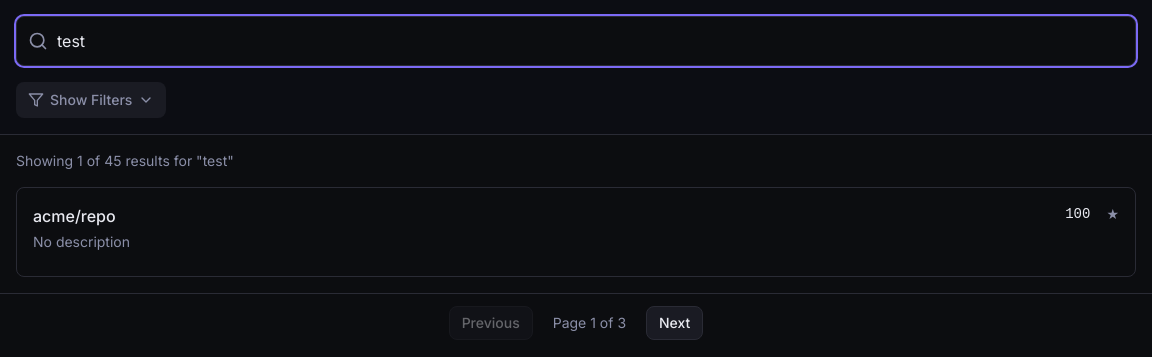
Scenario: SearchPanel pagination › disables Next on the last page
Expected: the text "Page 1 of 3" is shown, [553,314,626,331]
Step 1. Click the button with aria-label "next page" → point(675, 323), box [646,306,703,340]
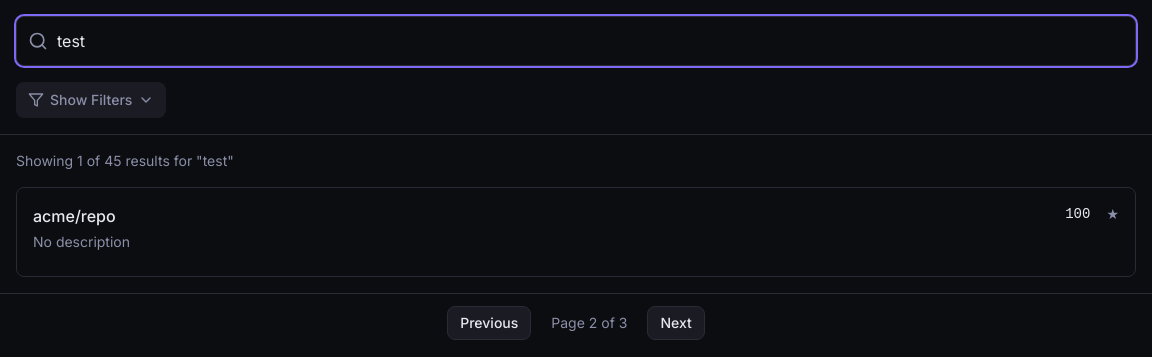
Now the text "Page 2 of 3" is shown, box [551,314,628,331]
Step 2. Click the button with aria-label "next page" → point(676, 323), box [648,306,705,340]
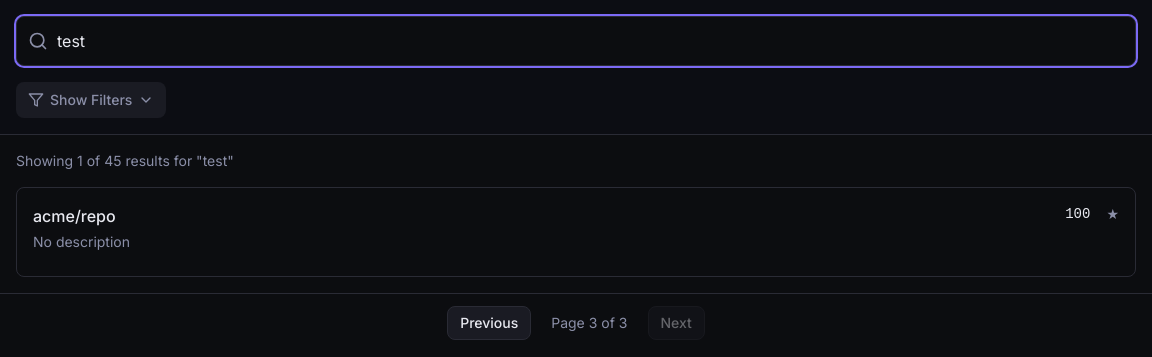
Now the button with aria-label "previous page" is enabled, box [447,306,531,340]
Now the text "Page 3 of 3" is shown, box [551,314,628,331]
Now the button with aria-label "next page" is disabled, box [648,306,705,340]
